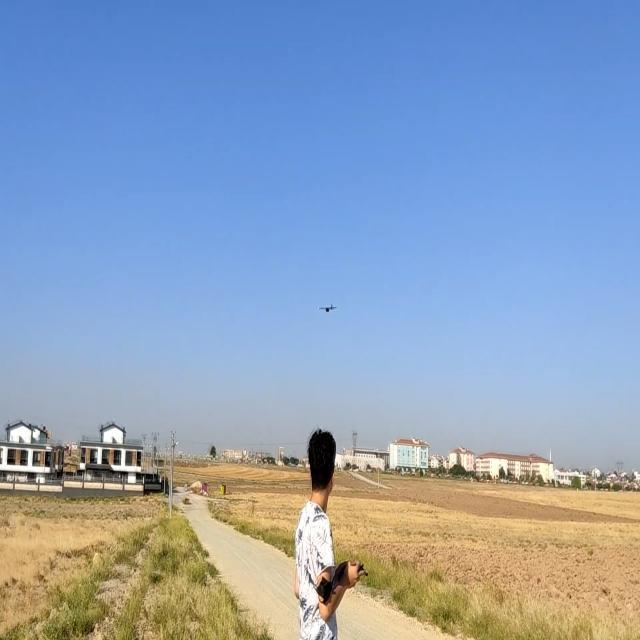iha: (309, 304, 332, 310)
